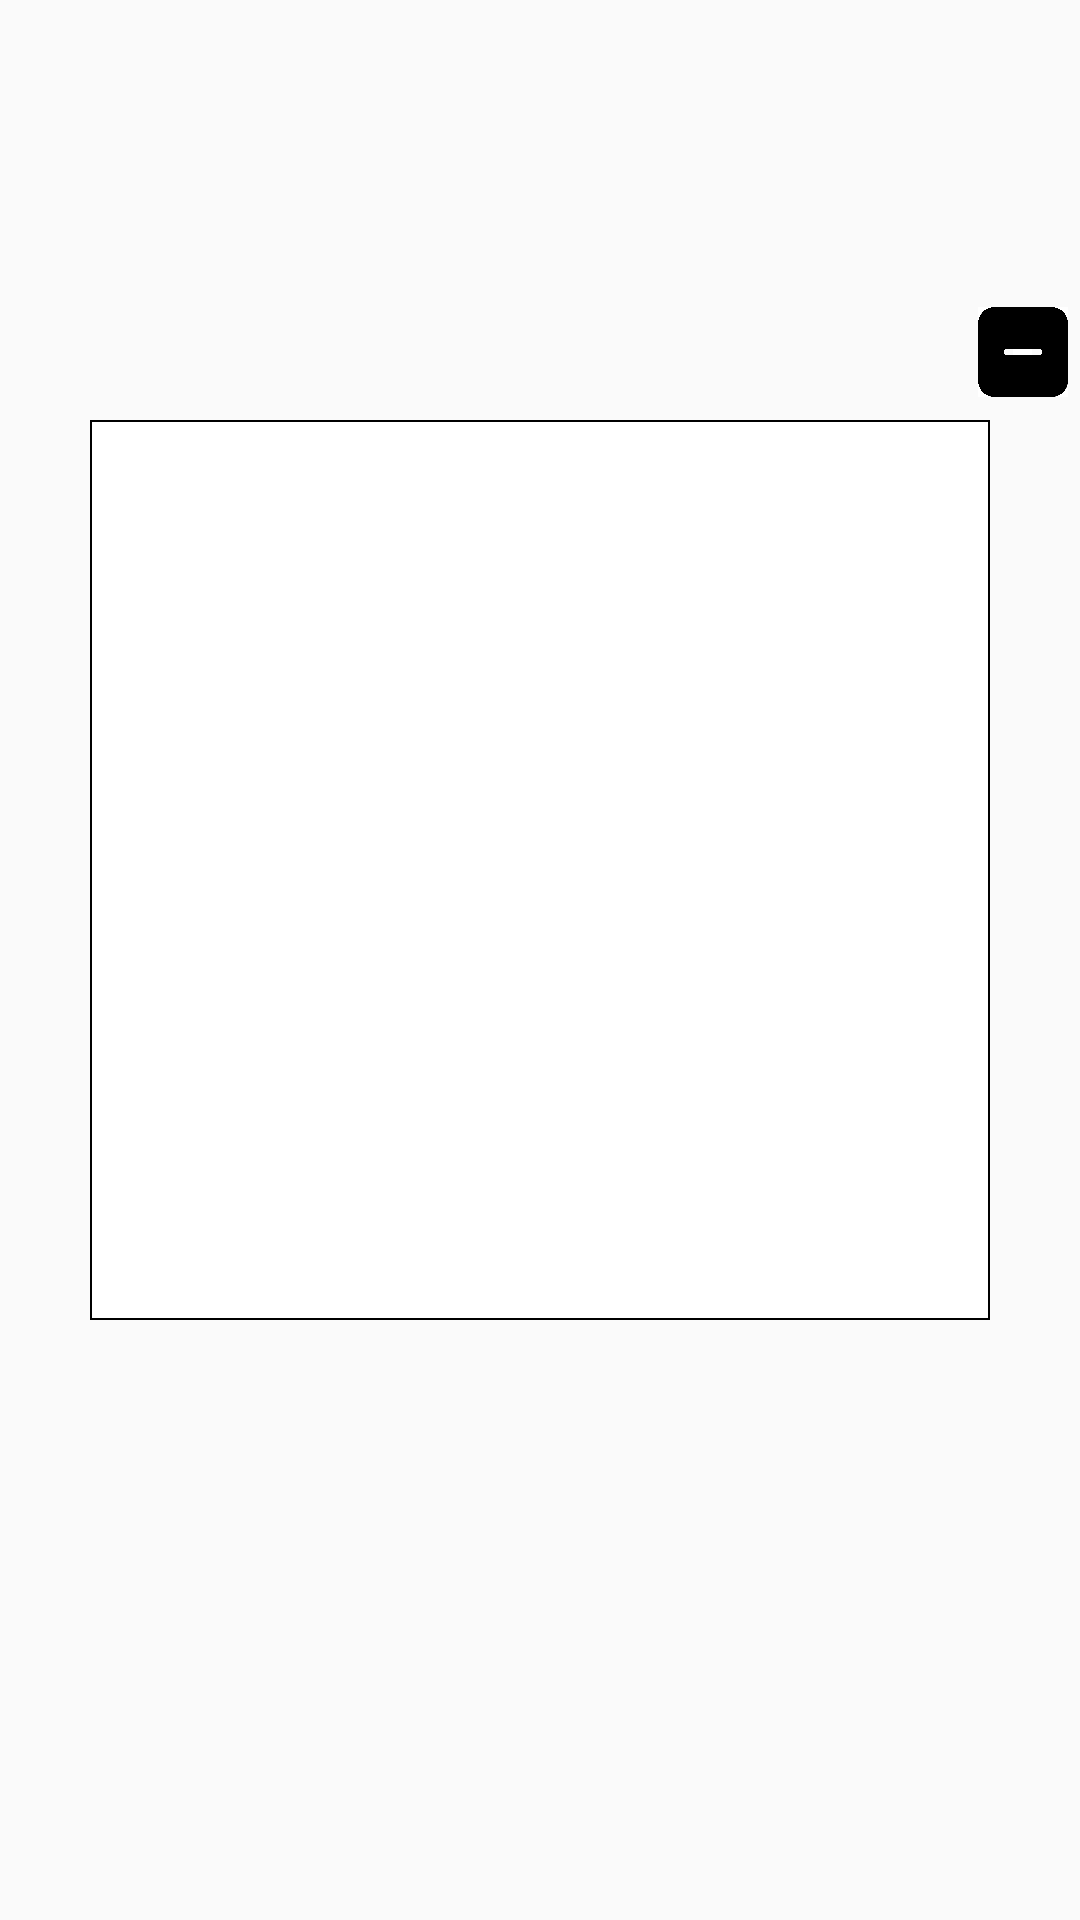

Named icons in this screenshot (1080 x 1920) and their bounding boxes, [x1, y1, x2, y2]:
delete: [978, 307, 1068, 397]
